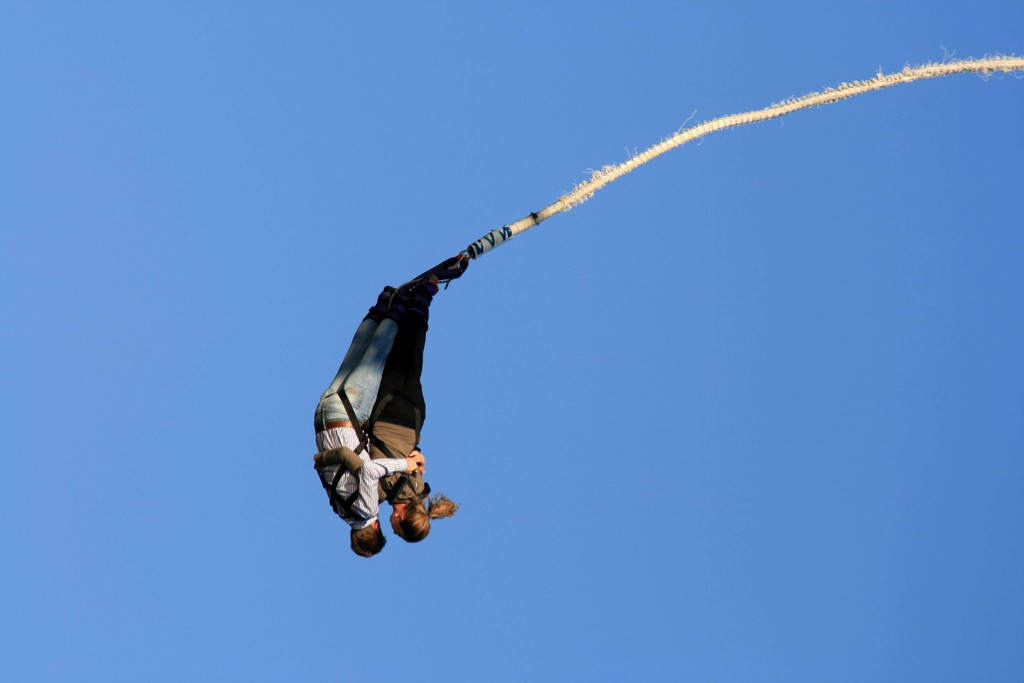Person: (313, 280, 420, 558), (368, 273, 459, 542)
